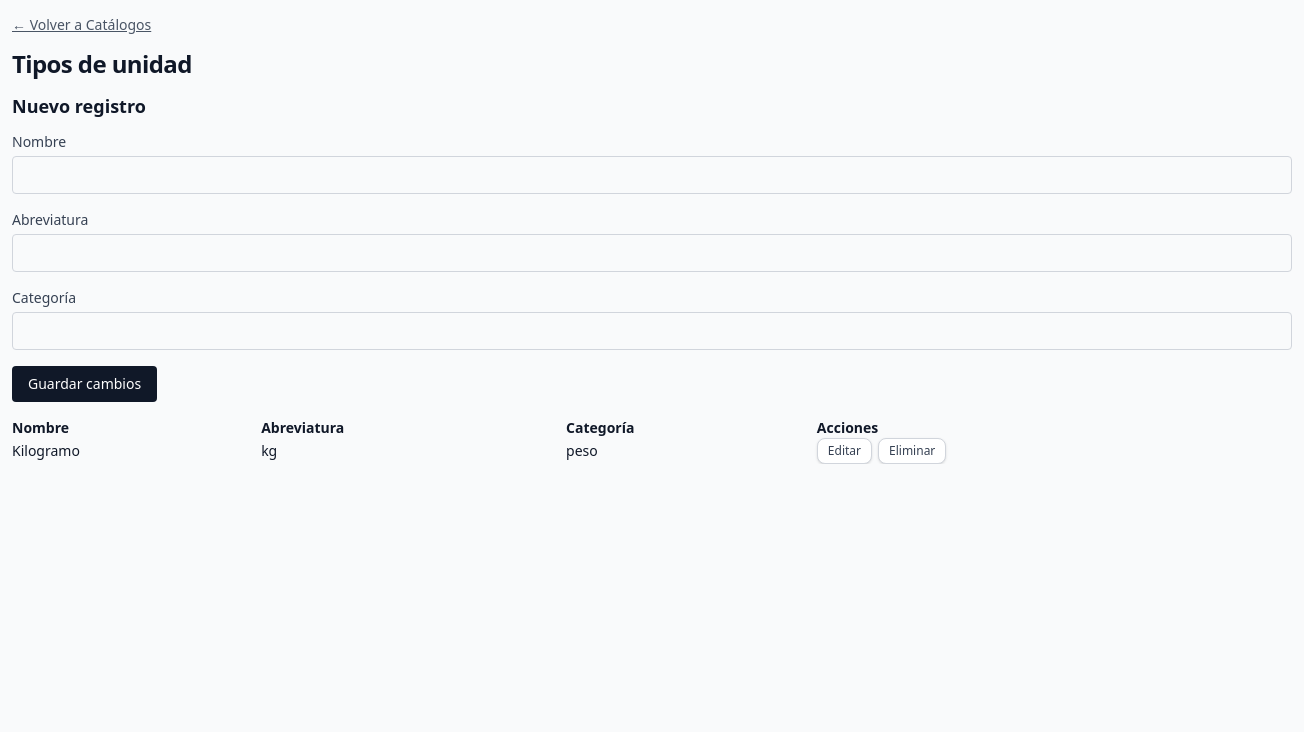
Test case: CatalogCrudPage · unit_types (ADM-9.1 CRUD + ADM-9.5 cero-request) › ADM-9.4: en uso del server (23503) ⇒ «en uso» amigable y la fila permanece
Check: the text "Kilogramo" is shown, box [12,438,261,464]
Click the button "Eliminar".
click(912, 451)  # box [878,438,946,464]
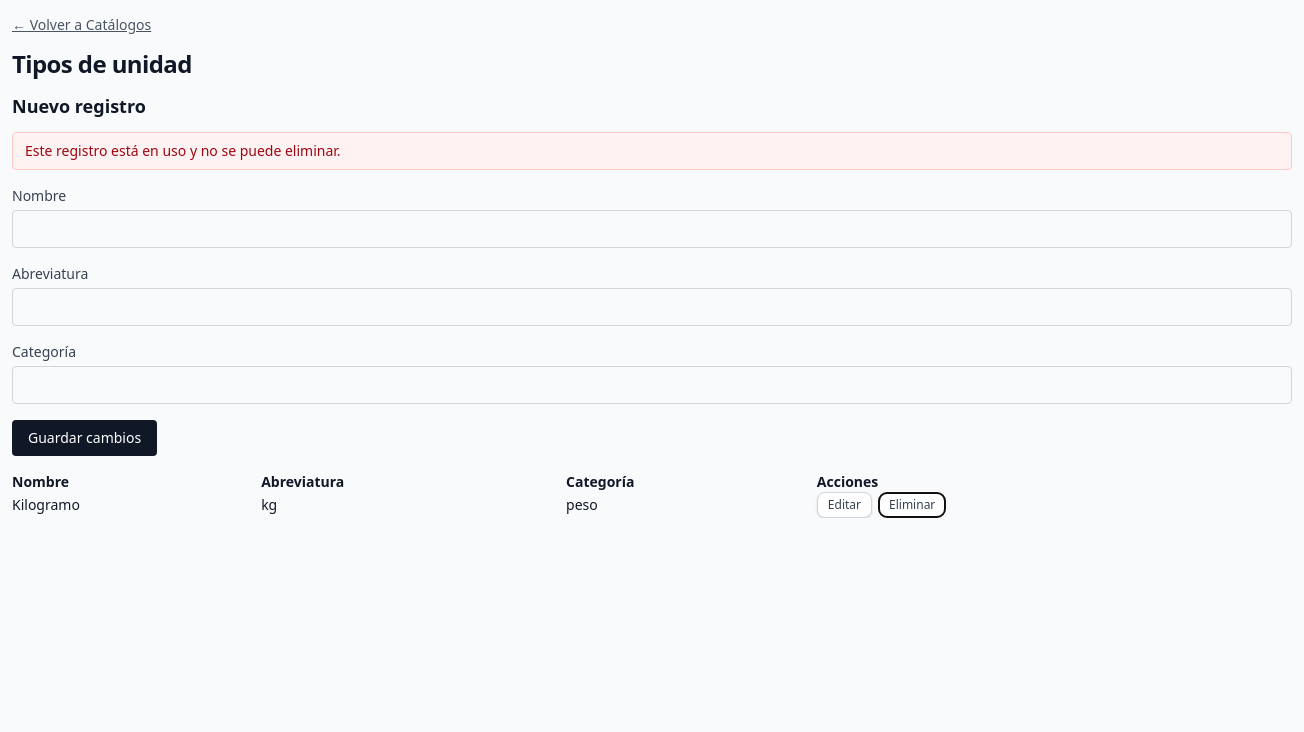
Check: the text "Kilogramo" is shown, box [12,492,261,518]
Check: the message reads "Este registro está en uso y no se puede eliminar.", box [25,141,341,160]
